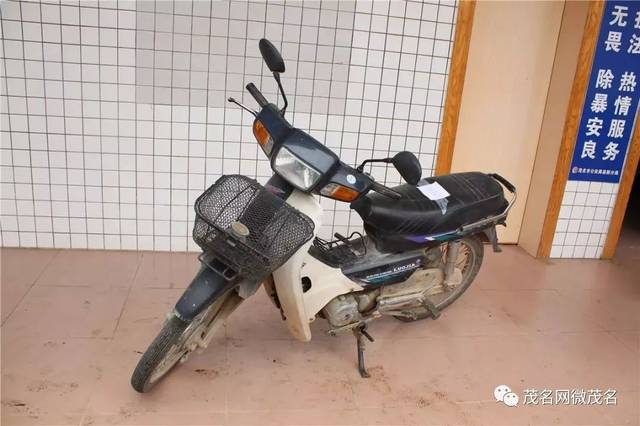电动车: (119, 32, 520, 398)
